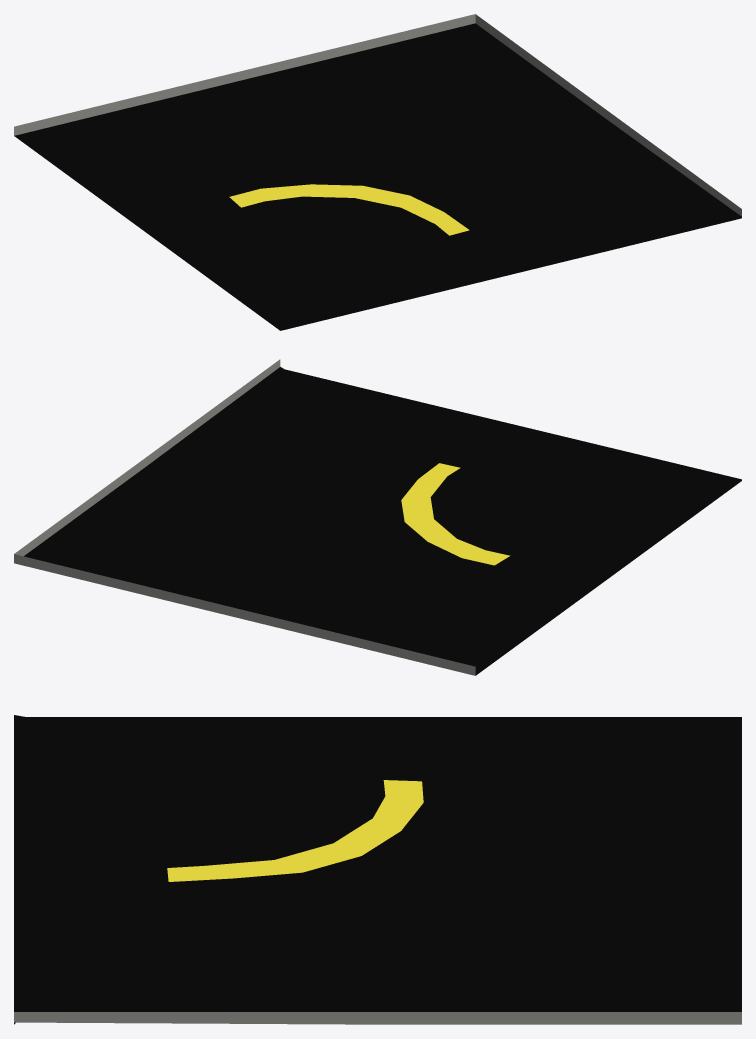
The model's file is lp-rua-L.gltf.
3 renders of one model, top to bottom at view 1: azimuth 30°, elevation 25°; view 2: azimuth 150°, elevation 25°; view 3: azimuth 270°, elevation 25°, orthographic. The views are drawn at different scales.
Visible parts, largest first — view 1: esquina; view 2: esquina; view 3: esquina.
Boxes of the visible parts, box(x1,y1,x2,y2) form: esquina: box(14, 14, 741, 330); esquina: box(14, 359, 741, 675); esquina: box(14, 715, 741, 1024).
Bounding box in the file's own units: 4 × 0.0835 × 4.
Materials: 1 (1 with a texture image).
